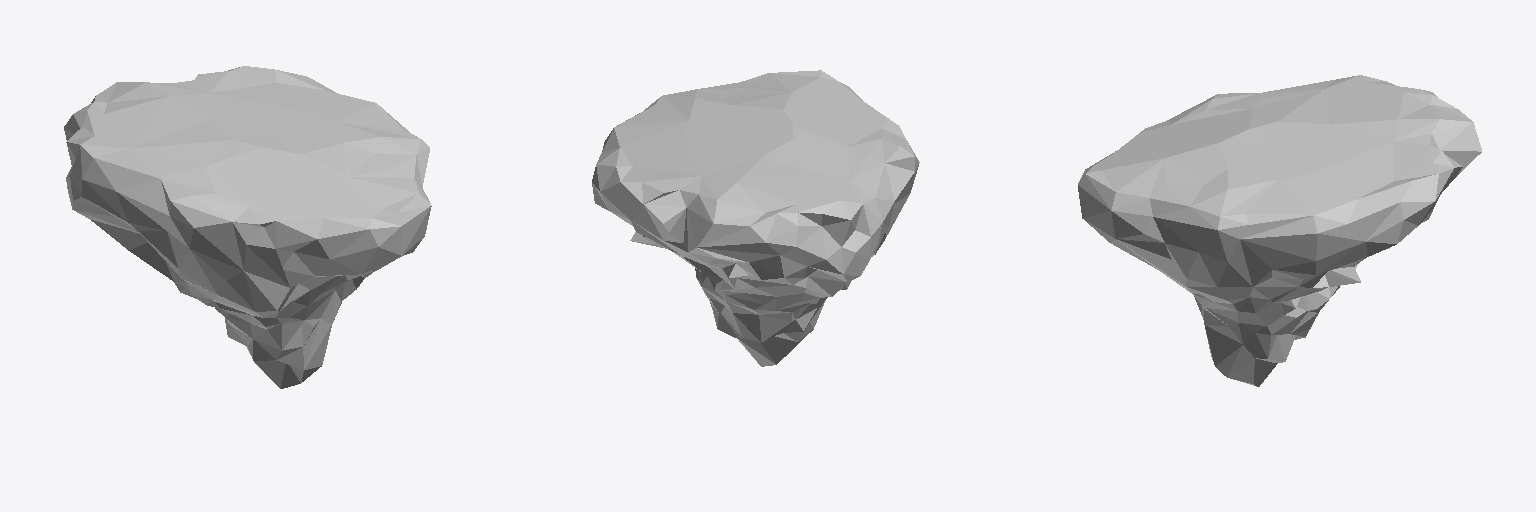
The model's file is IslandMedium.obj.
The picture shows the model from 3 angles: view 1: azimuth 30°, elevation 25°; view 2: azimuth 150°, elevation 25°; view 3: azimuth 270°, elevation 25°; orthographic projection.
Parts seen in each view (by area): view 1: Medium_Island_1_Icosphere.001; view 2: Medium_Island_1_Icosphere.001; view 3: Medium_Island_1_Icosphere.001.
Boxes of the visible parts, x1=… form: Medium_Island_1_Icosphere.001: x1=64, y1=66, x2=431, y2=388; Medium_Island_1_Icosphere.001: x1=592, y1=70, x2=919, y2=366; Medium_Island_1_Icosphere.001: x1=1078, y1=75, x2=1481, y2=386.
Size of the model in its own units: 43.48 by 35.43 by 52.75.